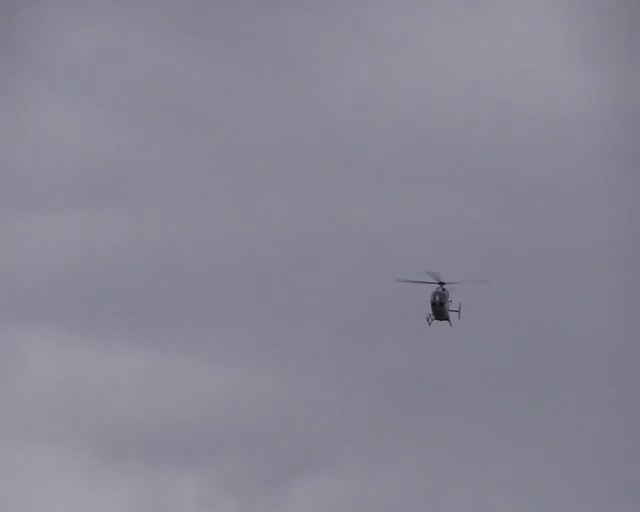HELICOPTER: (394, 269, 491, 327)
